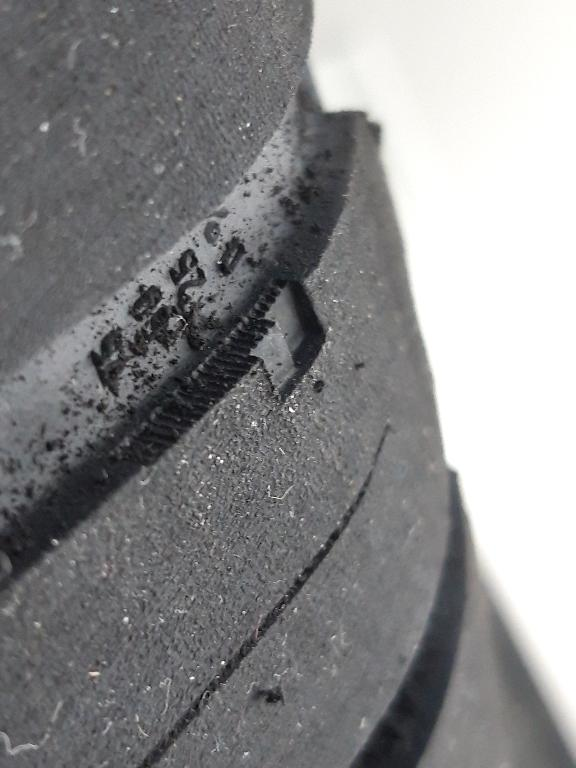temoin:25: (201, 256, 354, 418)
